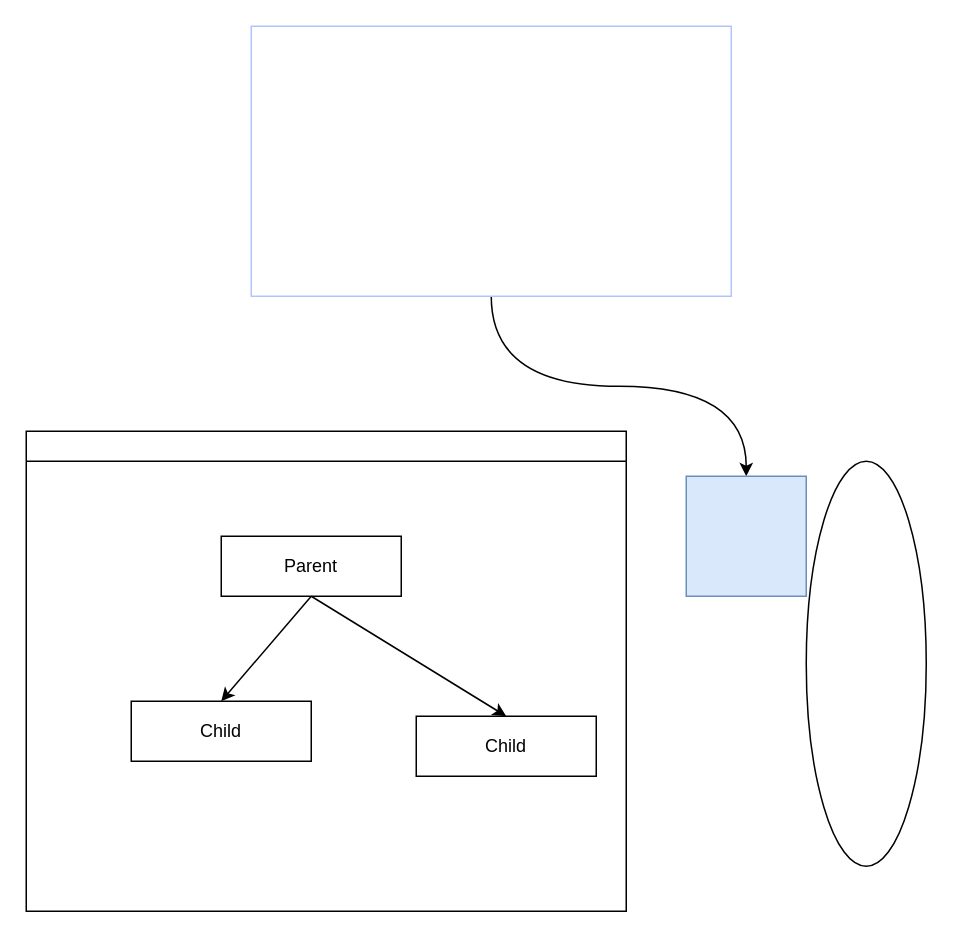
This 953x938 diagram has some shape labels left out. The shapes that lost their labels are listed below. From the top down, each one's box as (x1, y1, x2, y2) in pixels, then its label:
(250, 25, 731, 296): Hello World
(25, 430, 626, 911): Tree Container
